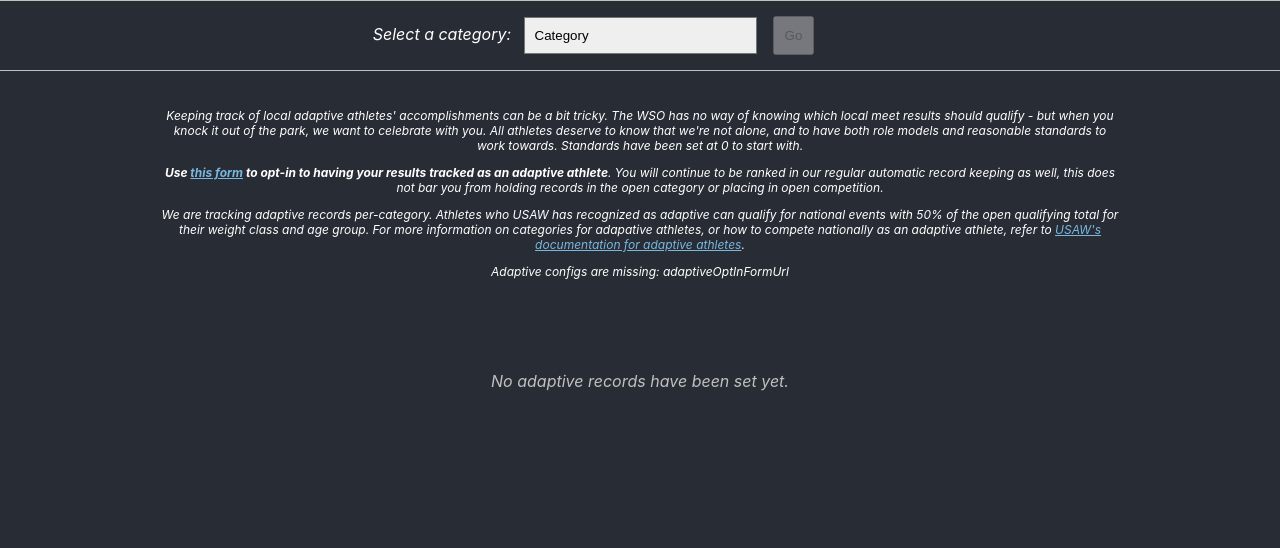
Test case: AdaptiveRecords (user-based) › the missing settings message is not shown once a category is applied
The width and height of the screenshot is (1280, 548).
Select "Visual Impairment" in the dropdown named "Category": (640, 36) [524, 17, 756, 54]
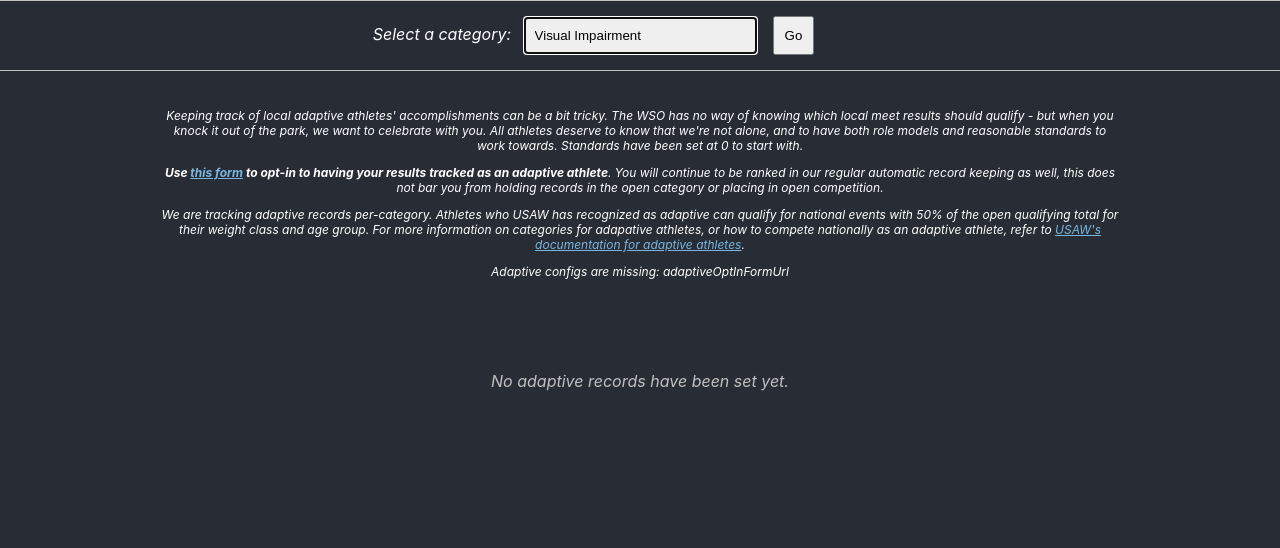
Click the button "Go": (793, 36) [772, 16, 814, 55]
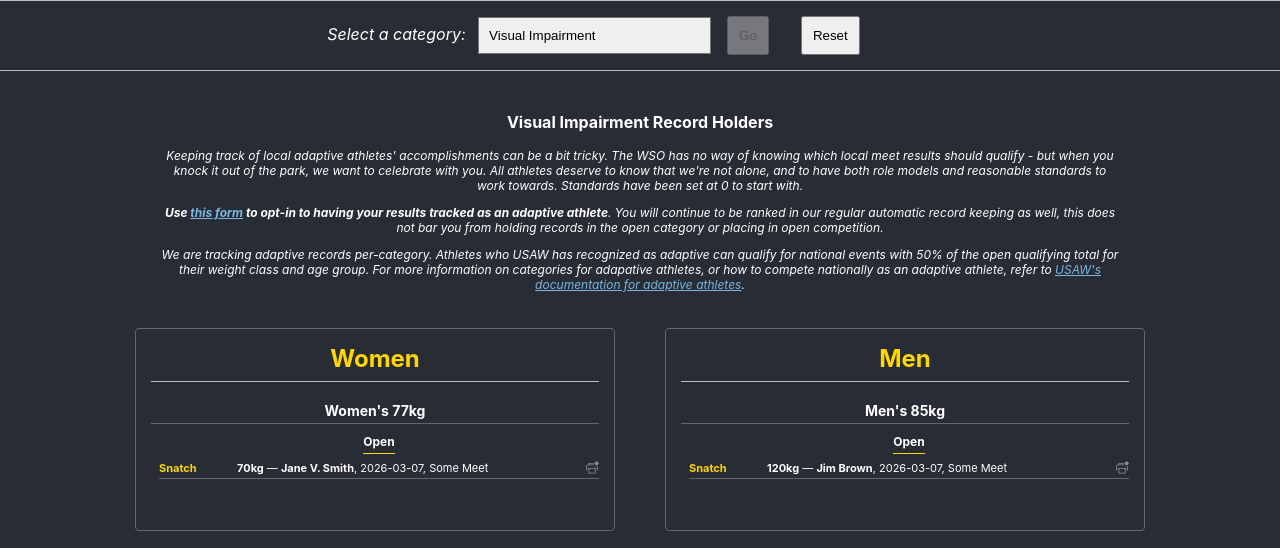
expect the text "Jane V. Smith" is shown: met, box [281, 461, 354, 475]
expect the text "Adaptive configs are missing" is gone: met
